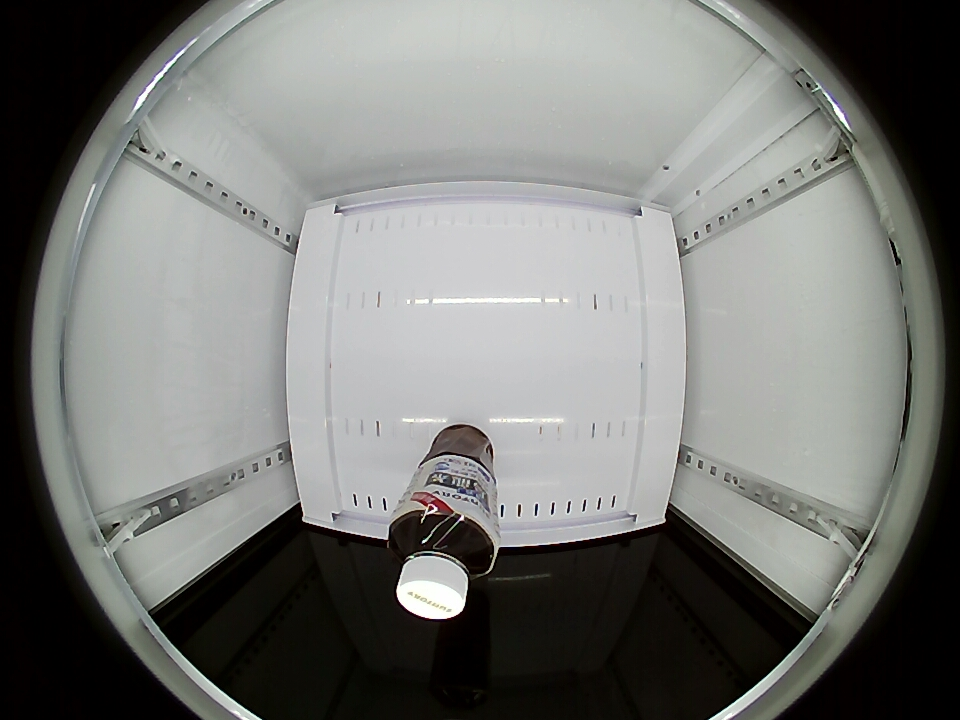wulongcha: (388, 502, 499, 620)
